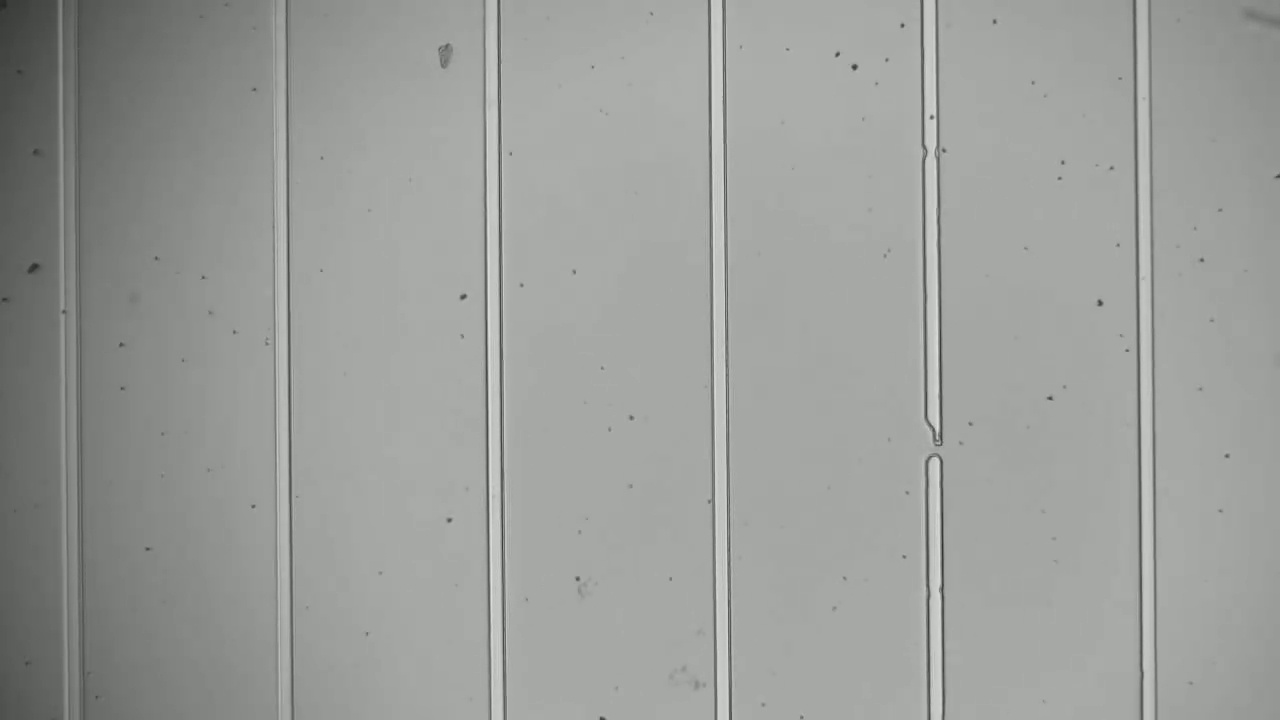edge_bite: (917, 132, 945, 168)
open: (914, 409, 952, 472)
